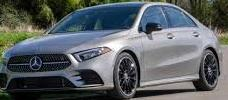Cars: (2, 3, 221, 98)
